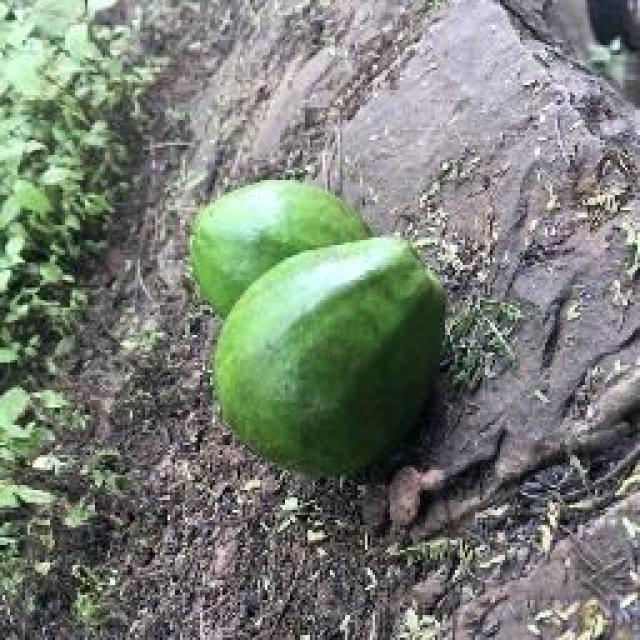Good_Guava: (210, 238, 445, 480)
